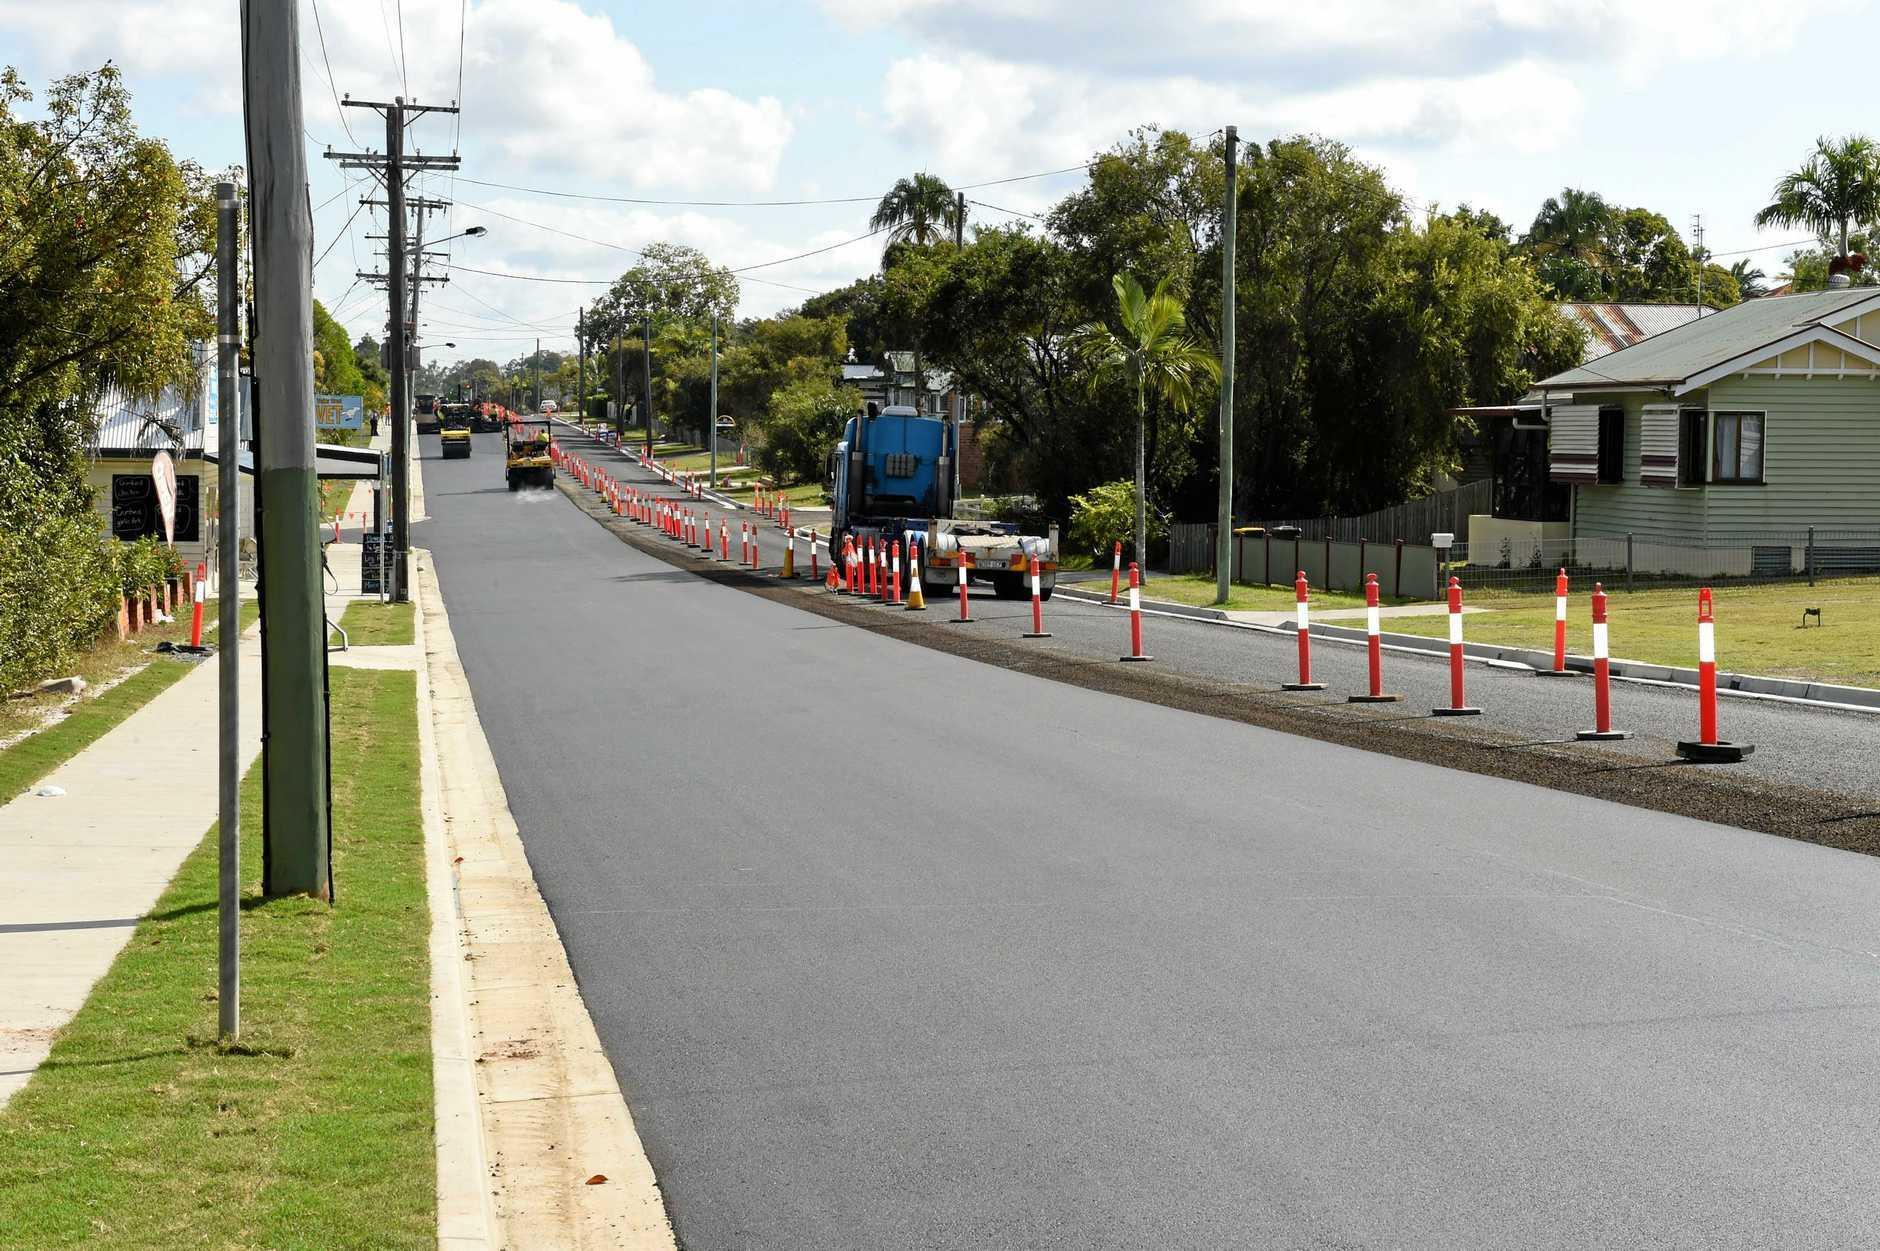car: (827, 393, 1073, 592), (490, 413, 562, 495), (433, 403, 480, 462)
roadcone: (1667, 574, 1756, 779), (1569, 582, 1634, 758), (1430, 567, 1485, 738), (1353, 565, 1395, 719), (1534, 562, 1583, 681), (1280, 568, 1322, 703), (1120, 558, 1159, 667), (1018, 554, 1058, 647), (944, 548, 983, 630), (900, 538, 933, 614), (778, 522, 800, 581), (747, 518, 765, 573), (687, 499, 705, 552), (719, 513, 736, 567), (624, 487, 642, 523)
